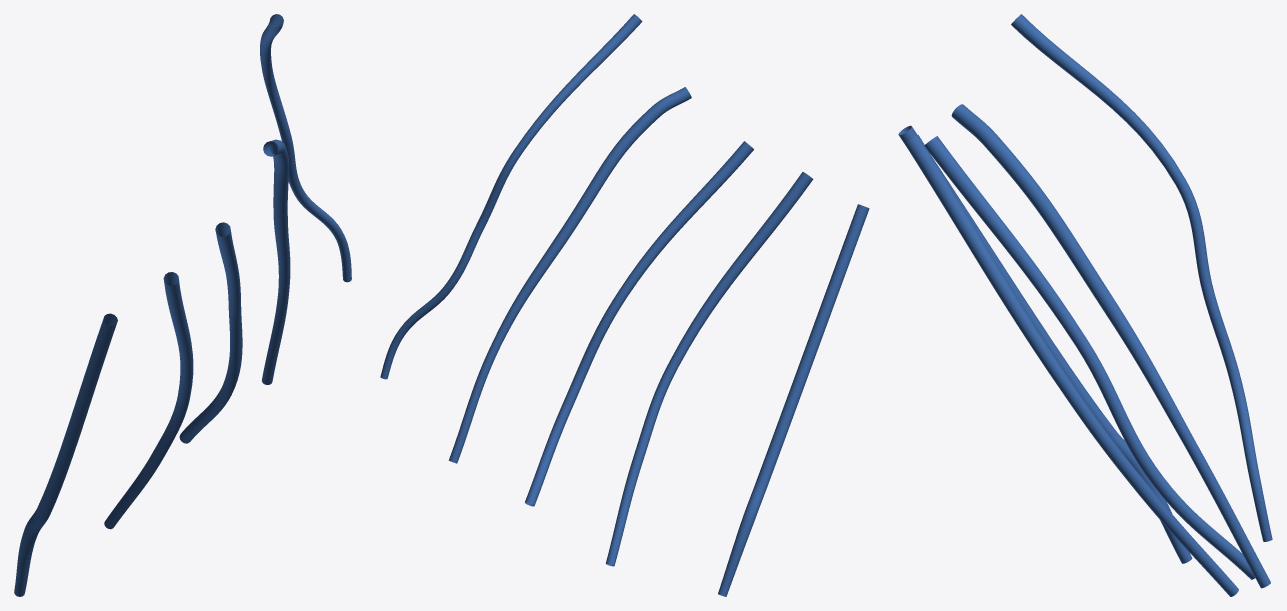
3 renders of one model, left to right at view 1: azimuth 30°, elevation 25°; view 2: azimuth 150°, elevation 25°; view 3: azimuth 270°, elevation 25°, orthographic. The views are drawn at different scales.
Visible parts, largest first — view 1: 左侧跖背静脉; view 2: 左侧跖背静脉; view 3: 左侧跖背静脉.
Part boxes in pixels (x1,y1,x2,y2): 左侧跖背静脉: [14, 14, 351, 596]; 左侧跖背静脉: [380, 14, 869, 596]; 左侧跖背静脉: [898, 14, 1272, 596].
Bounding box in the file's own units: 0.09 × 0.1233 × 0.0649.
